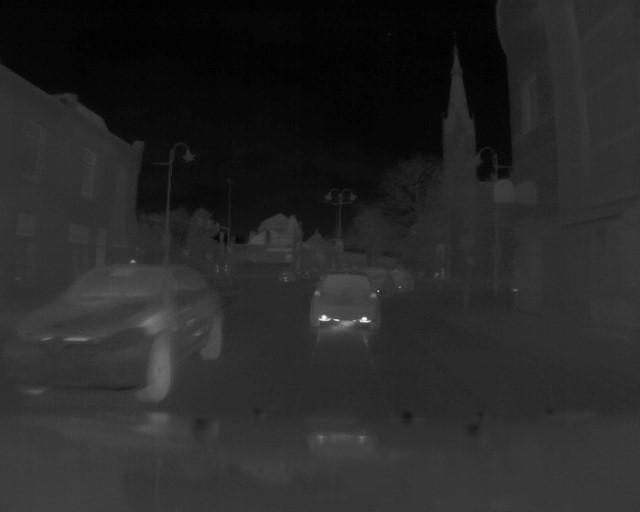car: (14, 260, 225, 403), (309, 270, 383, 337)
